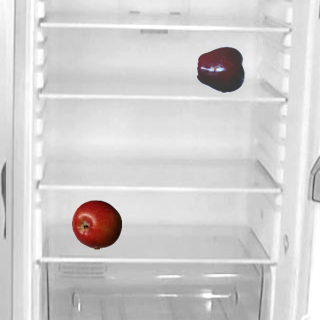Apple Braeburn: (71, 199, 121, 249)
Apple Red Delicious: (196, 44, 246, 94)
